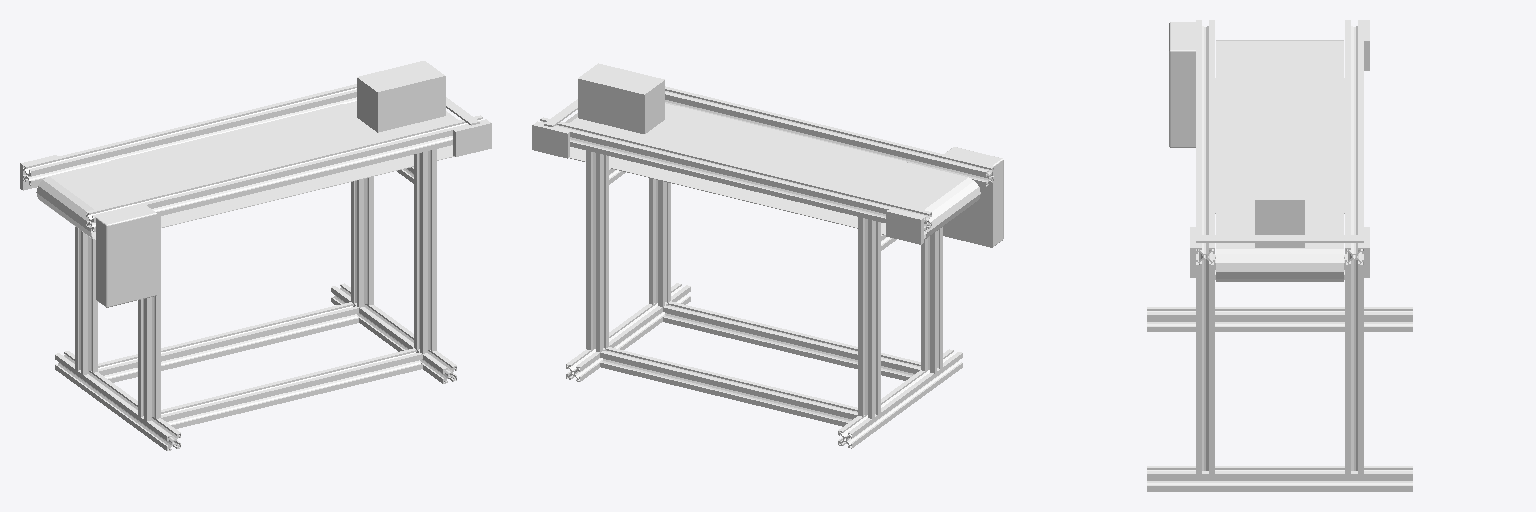
robot.urdf — Table:
<?xml version="1.0"?>
<robot name="Table">
    <link name="table_base">
        <visual name="Table">
            <origin rpy="0 0 0" xyz="0 0 0" />
            <geometry>
                <mesh filename="package://drake_project/../Task_Motion_Planning_with_HLTL_and_GCS/examples/models/two_iiwa_conveyor/conveyor_description/conveyor.obj" />
            </geometry>
            <material name="table_base_material">
                <color rgba="1.000000 1.000000 1.000000 1.0" />
            </material>
        </visual>
        <collision>
            <origin rpy="0 0 0" xyz="0 0 0" />
            <geometry>
                <mesh filename="package://drake_project/../Task_Motion_Planning_with_HLTL_and_GCS/examples/models/two_iiwa_conveyor/conveyor_description/conveyor.obj" />
            </geometry>
        </collision>
    </link>
</robot>

--- Render facts (derived) ---
Views: 3 orthographic renders of the robot side by side, from view 1: azimuth 30°, elevation 25°; view 2: azimuth 150°, elevation 25°; view 3: azimuth 270°, elevation 25°.
Model Table with 1 links and 0 joints (none), rooted at table_base, posed every joint at zero.
Links seen in each view (by area): view 1: table_base; view 2: table_base; view 3: table_base.
Link boxes in pixels (bbox=[...]): table_base: bbox=[20, 61, 491, 450]; table_base: bbox=[532, 63, 1003, 448]; table_base: bbox=[1147, 20, 1412, 491].
Size in the robot's own frame: 1.1 by 0.5461 by 0.7039 metres.
1 mesh visuals loaded from 1 distinct referenced files (1 OBJ).
